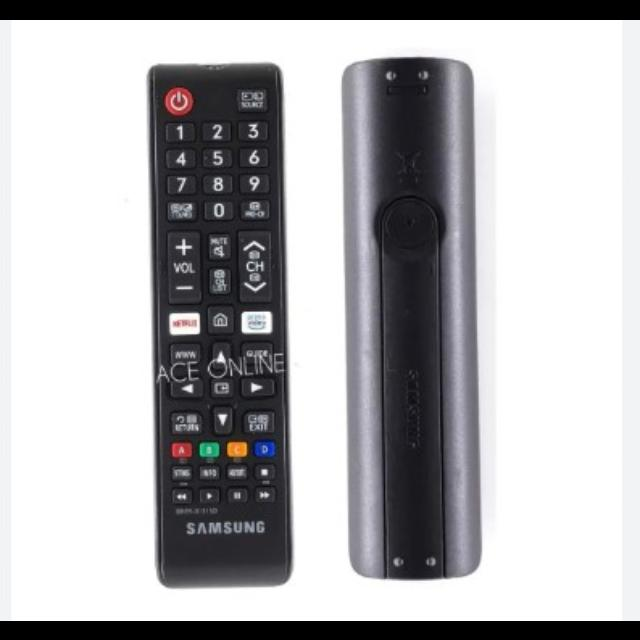TV-Remote-Control: (147, 63, 293, 591), (342, 56, 484, 580)
